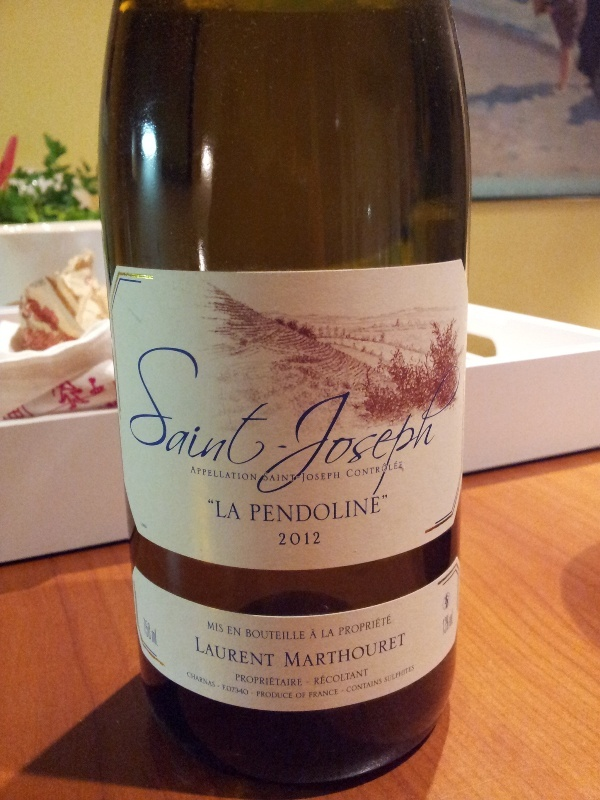text: (305, 363, 320, 506), (321, 363, 336, 506), (337, 363, 352, 506), (353, 363, 368, 506), (369, 363, 384, 506), (385, 363, 400, 506), (401, 363, 416, 506), (417, 363, 432, 506), (433, 363, 448, 506), (145, 338, 160, 477), (161, 338, 176, 477), (177, 338, 192, 477), (193, 338, 208, 477), (209, 338, 224, 477), (225, 338, 240, 477), (241, 338, 256, 477), (257, 338, 272, 477), (273, 338, 288, 477), (449, 363, 461, 506), (139, 338, 144, 477), (289, 631, 304, 672), (305, 631, 320, 672), (321, 631, 336, 672), (337, 631, 352, 672), (353, 631, 368, 672), (369, 631, 384, 672), (385, 631, 400, 672), (193, 635, 208, 670), (209, 635, 224, 670), (225, 635, 240, 670), (241, 635, 256, 670), (257, 635, 272, 670), (145, 615, 159, 649), (401, 631, 412, 672), (257, 494, 272, 523), (273, 494, 288, 523), (289, 494, 304, 523), (305, 494, 320, 523), (321, 494, 336, 523), (337, 494, 352, 523), (353, 494, 368, 523), (369, 494, 384, 523), (401, 663, 417, 687), (353, 613, 368, 638), (369, 613, 384, 638), (385, 663, 400, 687), (338, 613, 352, 638), (209, 498, 224, 521), (225, 498, 240, 521), (193, 669, 208, 689), (353, 676, 368, 696), (369, 676, 384, 696), (193, 463, 208, 483), (209, 463, 224, 483), (225, 463, 240, 483), (241, 463, 256, 483), (302, 363, 304, 506), (321, 668, 336, 687), (337, 668, 352, 687), (353, 668, 368, 687), (353, 460, 368, 479), (369, 460, 384, 479), (385, 460, 400, 479), (289, 338, 291, 477), (209, 619, 225, 635), (289, 530, 304, 547), (305, 530, 320, 547), (441, 605, 448, 638), (321, 626, 336, 641), (241, 672, 256, 687), (257, 672, 272, 687), (273, 672, 288, 687), (289, 672, 304, 687), (385, 613, 394, 638), (308, 625, 320, 643), (257, 627, 272, 641), (273, 627, 288, 641), (289, 627, 304, 641), (225, 683, 240, 697), (449, 605, 455, 638), (321, 689, 336, 701), (278, 530, 288, 547), (226, 624, 240, 636), (257, 689, 272, 700), (273, 689, 288, 700), (273, 472, 288, 483), (289, 472, 304, 483), (305, 472, 320, 483), (321, 472, 336, 483), (284, 631, 288, 672), (307, 689, 320, 701), (245, 627, 256, 641), (251, 494, 256, 523), (385, 494, 390, 523), (209, 669, 216, 689), (345, 676, 352, 696), (241, 683, 250, 697), (186, 669, 192, 689), (314, 668, 320, 687), (346, 460, 352, 479), (273, 635, 276, 670), (263, 472, 272, 483), (306, 679, 320, 686), (234, 672, 240, 687), (295, 691, 304, 700), (401, 460, 405, 479), (369, 668, 372, 687), (289, 689, 294, 700), (337, 472, 342, 483), (321, 530, 324, 547), (337, 689, 341, 701), (206, 498, 208, 521), (190, 463, 192, 483), (143, 615, 144, 649), (305, 627, 307, 641), (222, 683, 224, 697), (383, 663, 384, 687), (241, 498, 242, 521), (257, 463, 258, 483), (207, 619, 208, 635), (241, 624, 242, 636), (305, 691, 306, 700)
